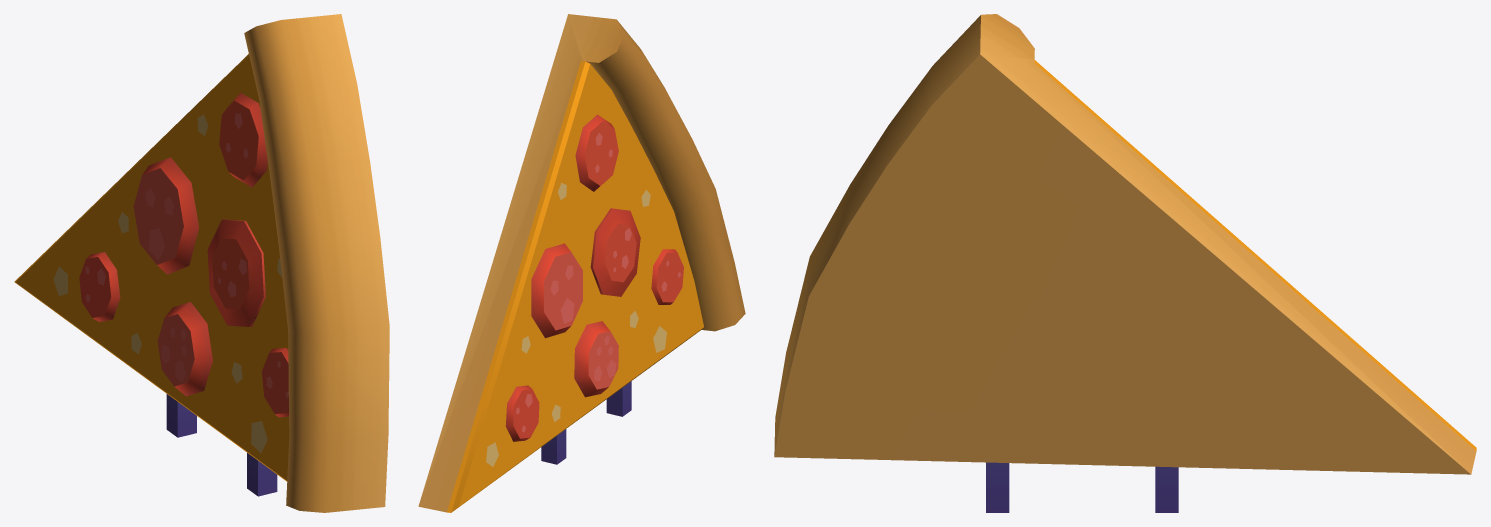
File: PizzaSign_4_B.fbx
3 views of the same model, side by side, from view 1: azimuth 30°, elevation 25°; view 2: azimuth 150°, elevation 25°; view 3: azimuth 270°, elevation 25° (orthographic). The views are drawn at different scales.
Parts seen in each view (by area): view 1: PizzaSign_4_B; view 2: PizzaSign_4_B; view 3: PizzaSign_4_B.
Part boxes in pixels (bbox=[...]): PizzaSign_4_B: bbox=[14, 14, 389, 512]; PizzaSign_4_B: bbox=[418, 14, 745, 512]; PizzaSign_4_B: bbox=[774, 14, 1476, 512].
Size of the model in its own units: 61.04 by 212 by 270.
